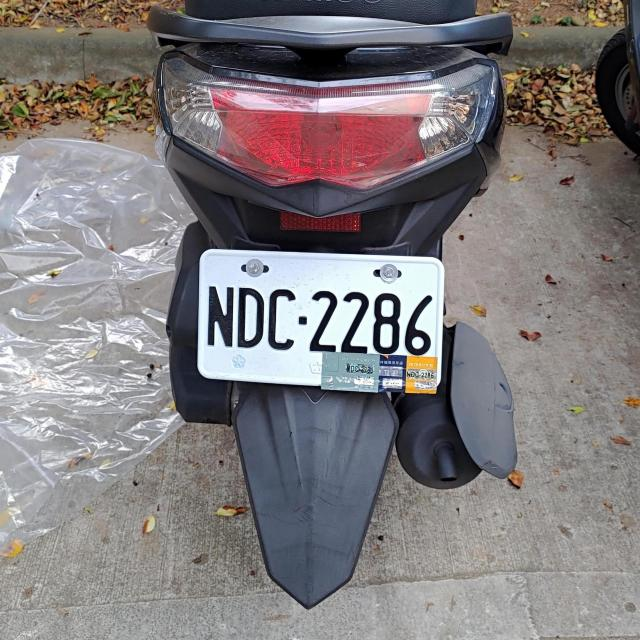W: (197, 249, 442, 387)
